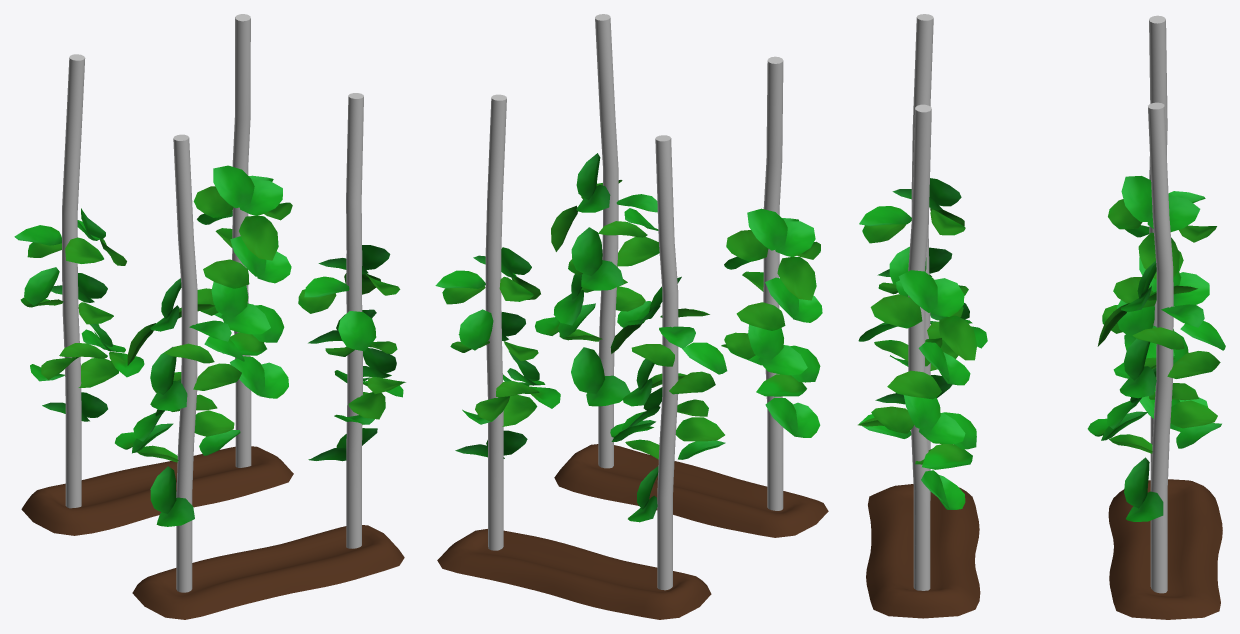
File: Tomato2.fbx
The picture shows the model from 3 angles, left to right: view 1: azimuth 30°, elevation 25°; view 2: azimuth 150°, elevation 25°; view 3: azimuth 270°, elevation 25°; orthographic projection. The views are drawn at different scales.
Parts seen in each view (by area): view 1: 2; view 2: 2; view 3: 2.
Boxes of the visible parts, <box> form: 2: <box>14,14,405,619</box>; 2: <box>435,14,828,619</box>; 2: <box>858,14,1225,619</box>.
Size of the model in its own units: 299 by 470 by 320.
